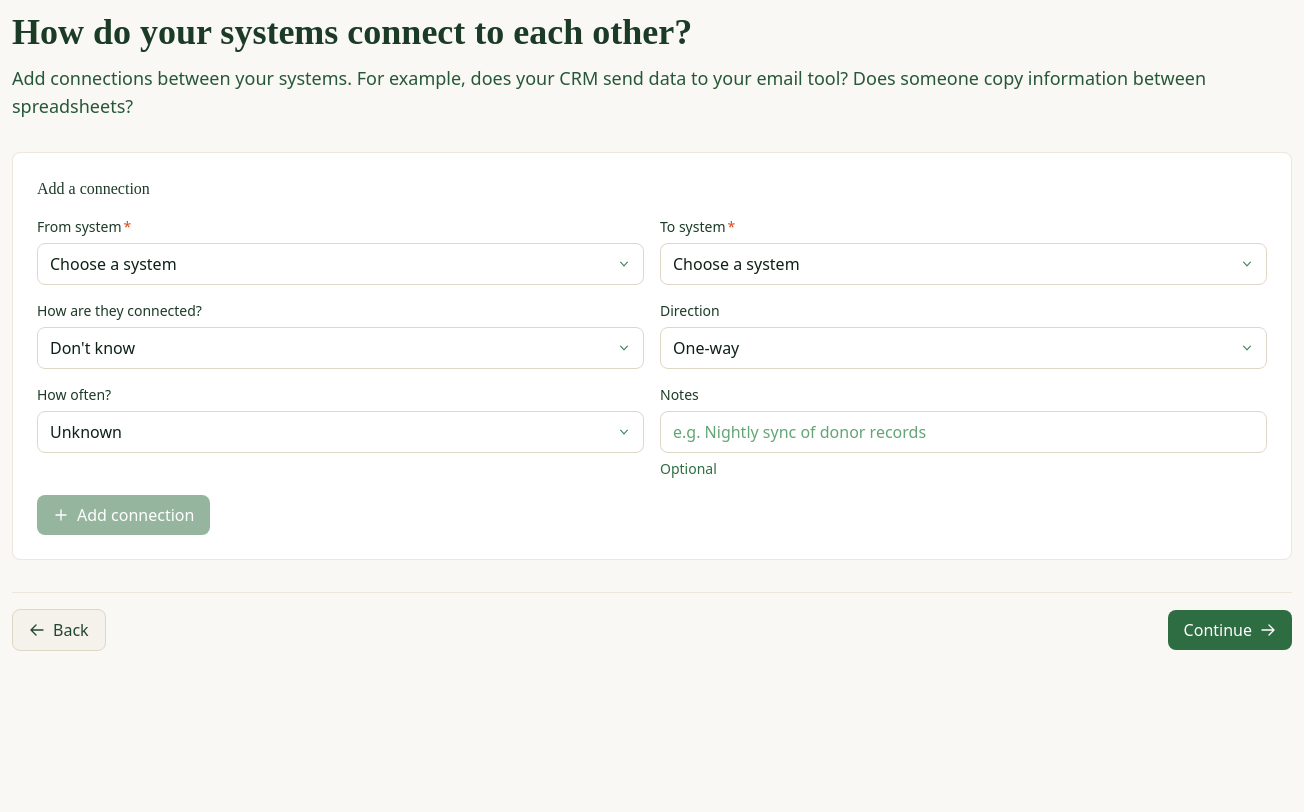
Test: IntegrationMatrix › can add a connection between two systems
This screenshot has width=1304, height=812.
Select "System 1" in the dropdown labelled "From system*": (340,264) [37, 243, 644, 285]
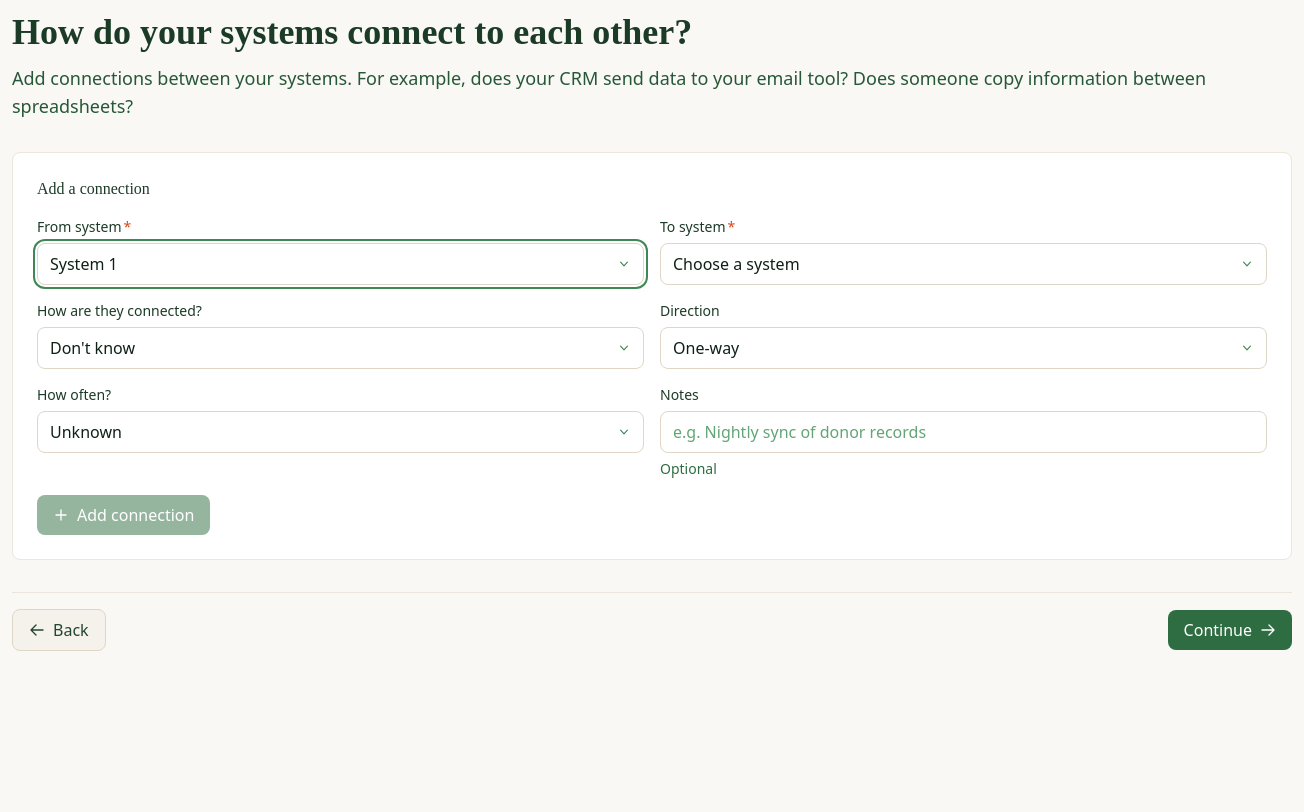
Select "System 2" in the dropdown labelled "To system*": (964,264) [660, 243, 1267, 285]
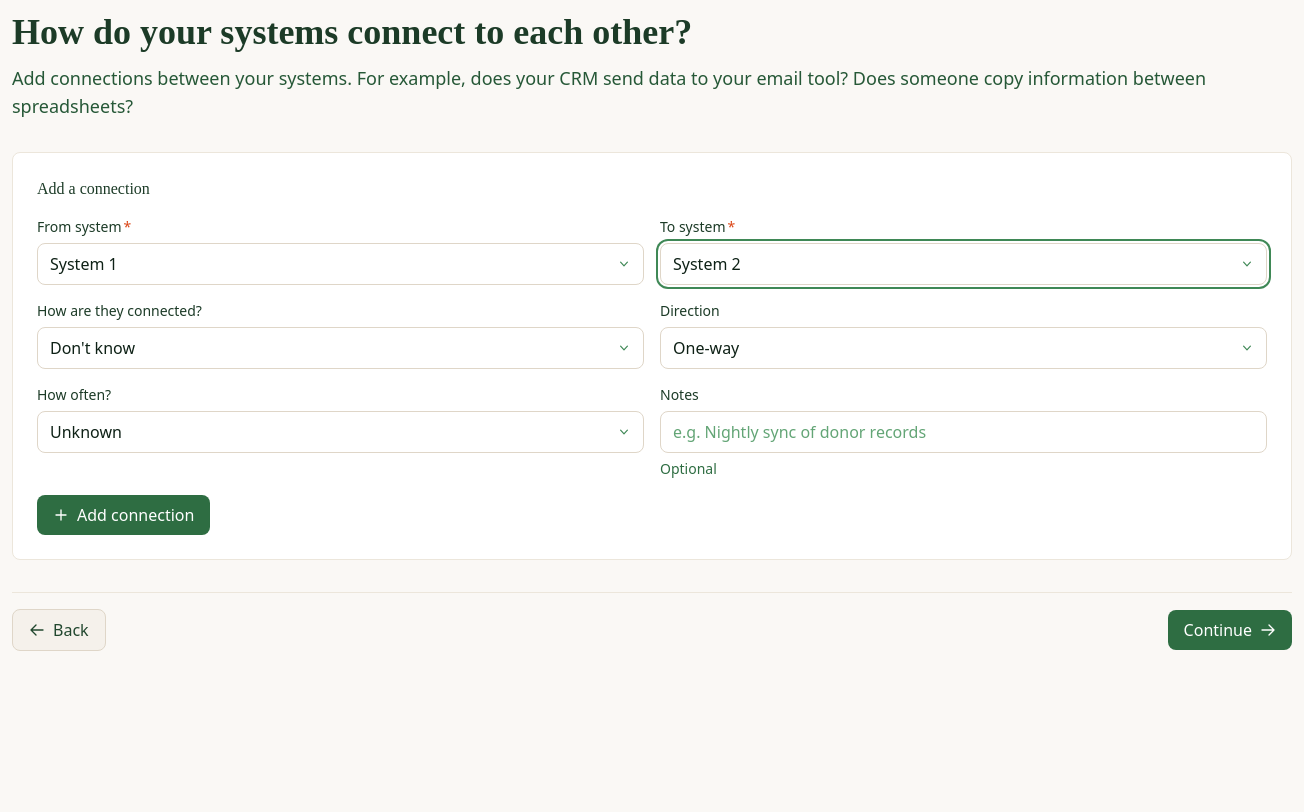
Click the button "Add connection": (124,515) [37, 495, 210, 535]
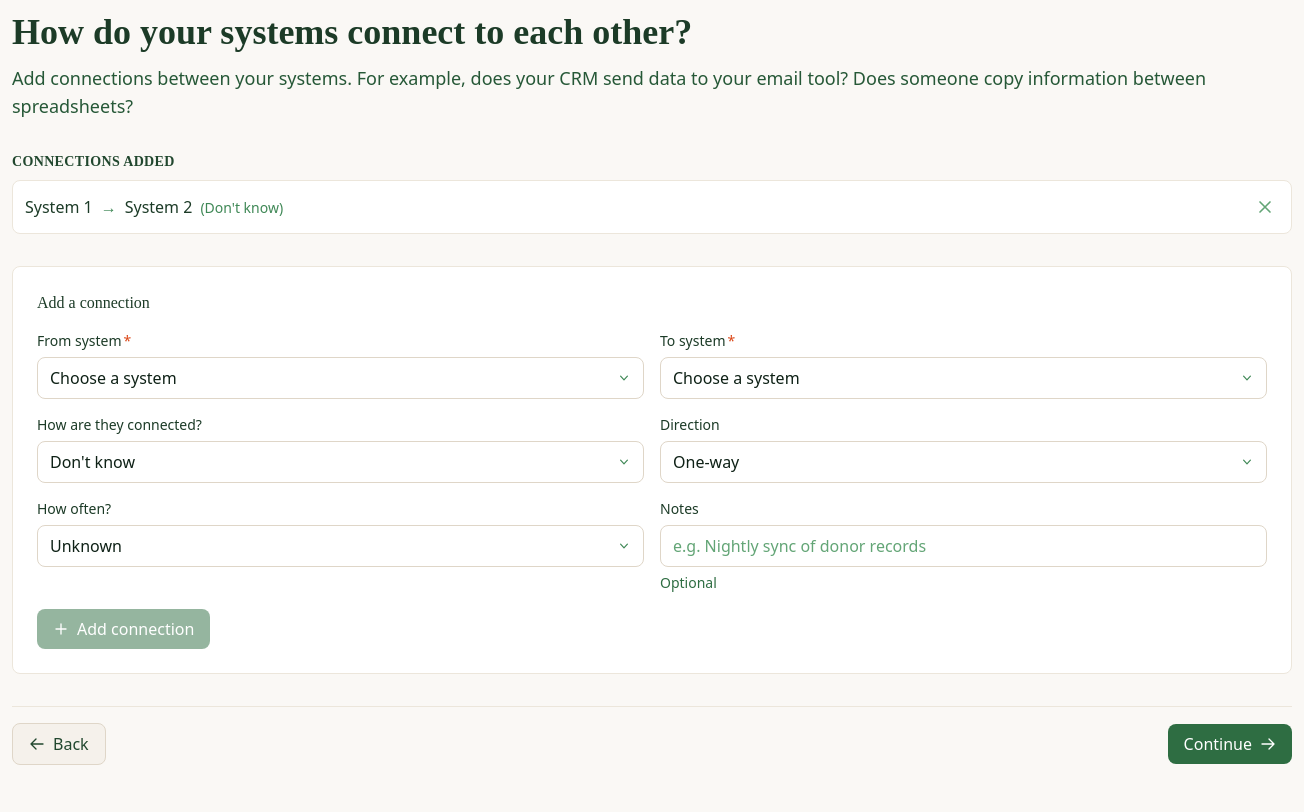
expect the heading "Connections added" is shown: met, box [12, 154, 175, 169]
